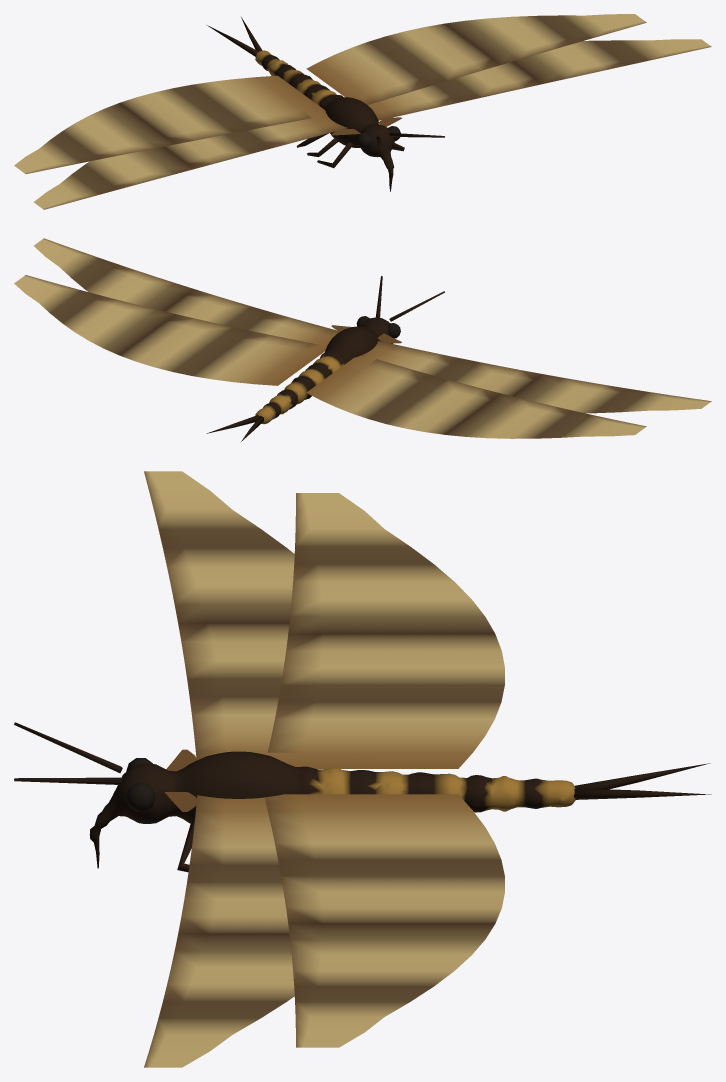
Rendered from Dunbaria.fbx.
3 views of the same model, one above another, from view 1: azimuth 30°, elevation 25°; view 2: azimuth 150°, elevation 25°; view 3: azimuth 270°, elevation 25° (orthographic). The views are drawn at different scales.
Visible parts, largest first — view 1: Dunbaria; view 2: Dunbaria; view 3: Dunbaria.
Boxes of the visible parts, x1=… form: Dunbaria: x1=14, y1=14, x2=711, y2=209; Dunbaria: x1=14, y1=238, x2=711, y2=441; Dunbaria: x1=14, y1=471, x2=711, y2=1067.
Size of the model in its own units: 1.7 by 0.1572 by 0.8409.
